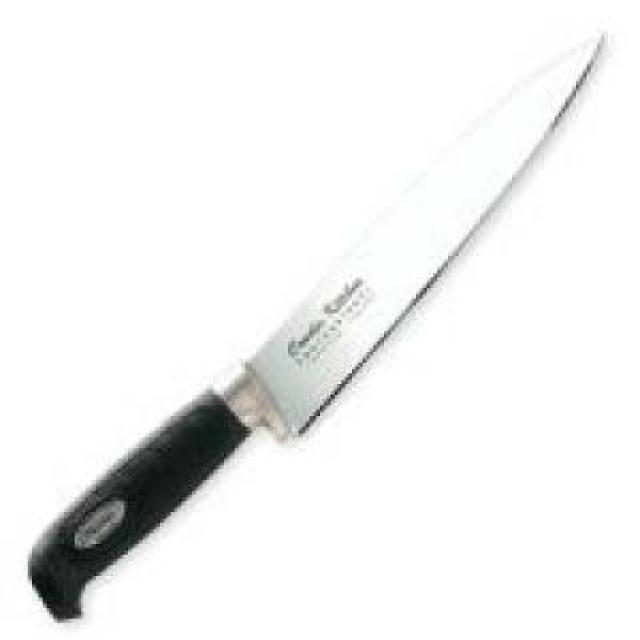knife: (4, 17, 621, 626)
